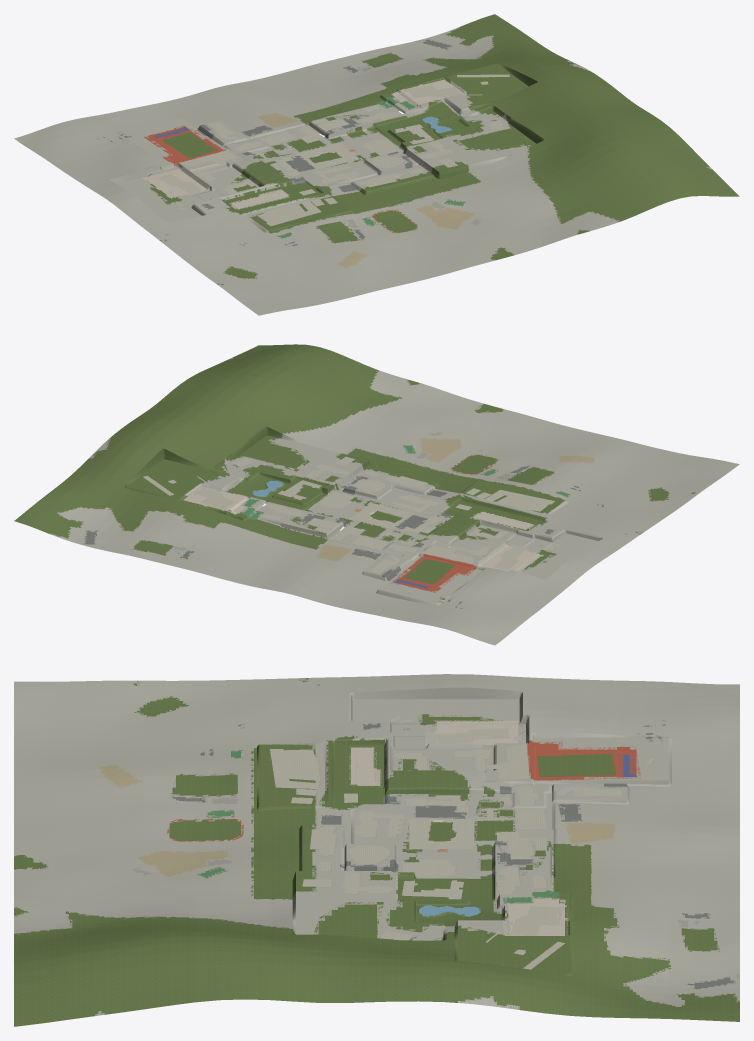
The picture shows the model from 3 angles, top to bottom: view 1: azimuth 30°, elevation 25°; view 2: azimuth 150°, elevation 25°; view 3: azimuth 270°, elevation 25°; orthographic projection. The views are drawn at different scales.
Parts seen in each view (by area): view 1: uos-base, uos-wood, uos-woodOver, uos-paving, uos-pitchTurf, uos-graniteLight, uos-dirtField, uos-asphalt, uos-grass, uos-wood-overlay, uos-terracotta, uos-track (+1 smaller); view 2: uos-base, uos-wood, uos-woodOver, uos-paving, uos-pitchTurf, uos-graniteLight, uos-dirtField, uos-asphalt, uos-track, uos-grass, uos-wood-overlay, uos-terracotta (+1 smaller); view 3: uos-base, uos-wood, uos-woodOver, uos-paving, uos-pitchTurf, uos-graniteLight, uos-dirtField, uos-asphalt, uos-track, uos-grass, uos-terracotta, uos-wood-overlay (+5 smaller).
Part boxes in pixels (bbox=[...]): uos-base: bbox=[14, 27, 711, 315]; uos-wood: bbox=[150, 14, 739, 223]; uos-woodOver: bbox=[222, 52, 627, 233]; uos-paving: bbox=[153, 74, 509, 226]; uos-pitchTurf: bbox=[164, 53, 589, 243]; uos-graniteLight: bbox=[143, 79, 461, 209]; uos-dirtField: bbox=[258, 40, 474, 266]; uos-asphalt: bbox=[120, 39, 495, 241]; uos-grass: bbox=[221, 100, 628, 284]; uos-wood-overlay: bbox=[147, 27, 709, 222]; uos-terracotta: bbox=[259, 143, 359, 195]; uos-track: bbox=[146, 127, 417, 232]; uos-base: bbox=[50, 358, 739, 645]; uos-wood: bbox=[14, 344, 556, 569]; uos-woodOver: bbox=[85, 400, 564, 549]; uos-paving: bbox=[143, 456, 560, 592]; uos-pitchTurf: bbox=[134, 379, 553, 583]; uos-graniteLight: bbox=[183, 486, 542, 571]; uos-dirtField: bbox=[90, 437, 594, 561]; uos-asphalt: bbox=[84, 465, 640, 602]; uos-track: bbox=[398, 454, 495, 591]; uos-grass: bbox=[226, 371, 695, 535]; uos-wood-overlay: bbox=[50, 370, 553, 570]; uos-terracotta: bbox=[350, 503, 478, 528]; uos-base: bbox=[14, 674, 739, 1015]; uos-wood: bbox=[14, 714, 739, 1026]; uos-woodOver: bbox=[254, 739, 590, 1001]; uos-paving: bbox=[270, 717, 653, 969]; uos-pitchTurf: bbox=[14, 755, 717, 951]; uos-graniteLight: bbox=[351, 720, 566, 935]; uos-dirtField: bbox=[101, 765, 739, 978]; uos-asphalt: bbox=[172, 678, 733, 988]; uos-track: bbox=[169, 740, 636, 840]; uos-grass: bbox=[14, 683, 508, 947]; uos-terracotta: bbox=[357, 769, 474, 848]; uos-wood-overlay: bbox=[14, 714, 739, 1015].
Bounding box in the file's own units: 1016 × 67.71 × 896.
Materials: 35 (22 with a texture image).
